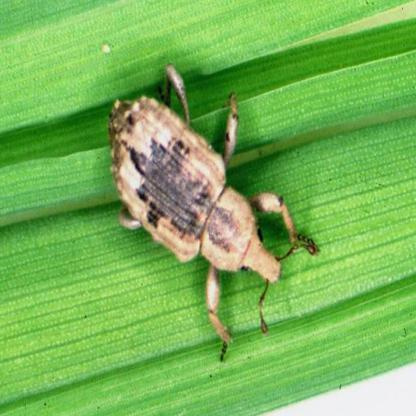rice-bug: (105, 62, 282, 344)
